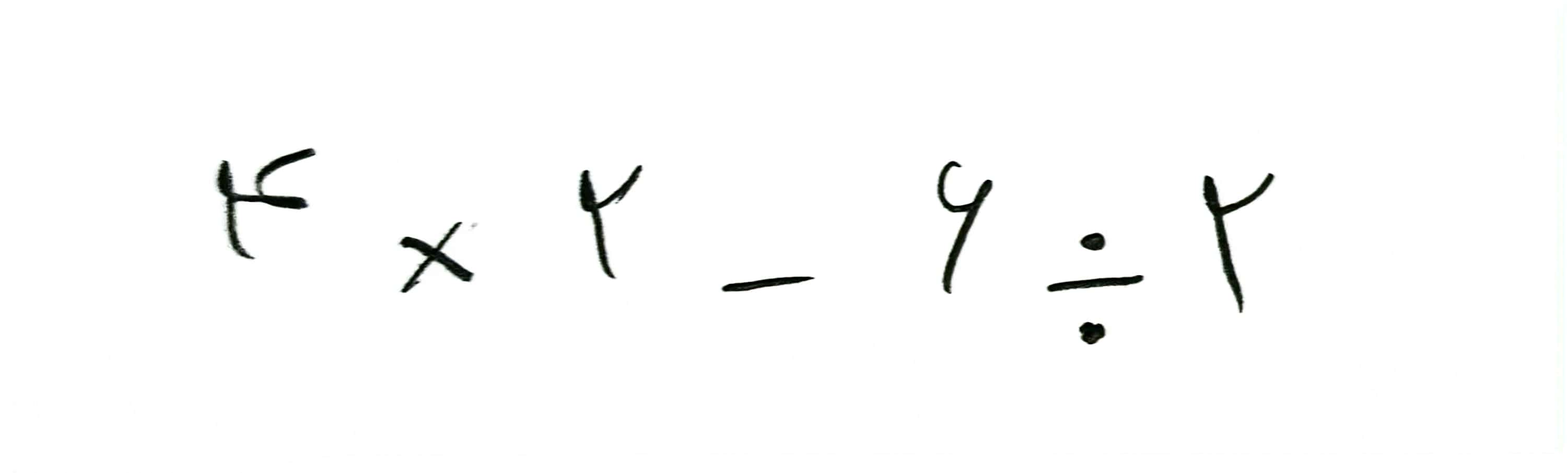character: (216, 147, 316, 261), (1048, 233, 1147, 347), (1202, 173, 1274, 313), (579, 164, 645, 280), (938, 161, 993, 297), (398, 219, 474, 293), (722, 276, 815, 293)
